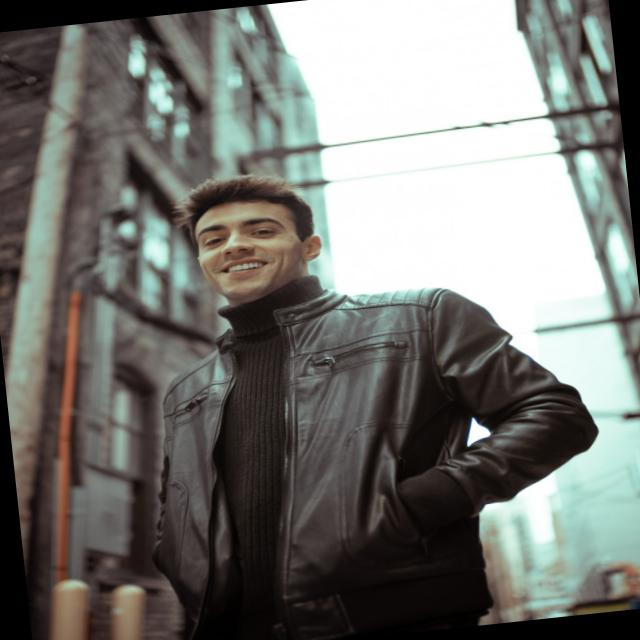Jacket: (77, 244, 624, 640)
